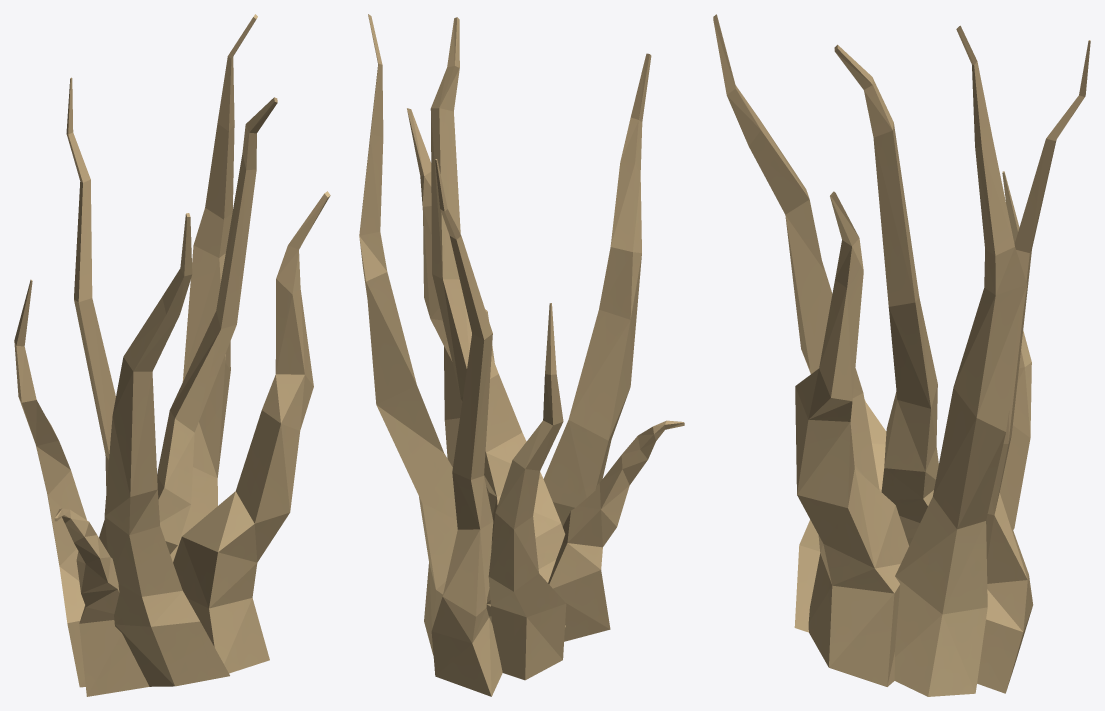
File: grass_brown_1.obj
The picture shows the model from 3 angles, left to right: view 1: azimuth 30°, elevation 25°; view 2: azimuth 150°, elevation 25°; view 3: azimuth 270°, elevation 25°; orthographic projection. The views are drawn at different scales.
Parts seen in each view (by area): view 1: grass_brwon_1_Mesh; view 2: grass_brwon_1_Mesh; view 3: grass_brwon_1_Mesh.
Boxes of the visible parts, <box> form: grass_brwon_1_Mesh: <box>14,14,330,696</box>; grass_brwon_1_Mesh: <box>359,14,684,696</box>; grass_brwon_1_Mesh: <box>713,14,1090,696</box>.
Size of the model in its own units: 0.2915 by 0.6387 by 0.3037.
